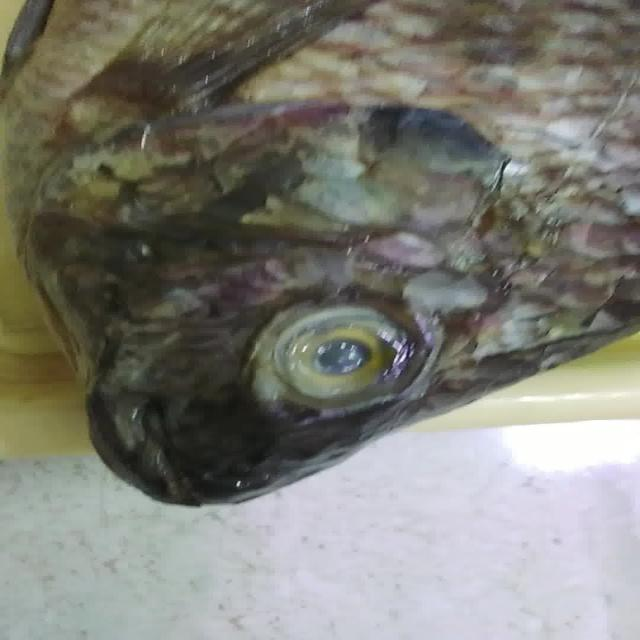Non-Fresh: (249, 286, 438, 414)
